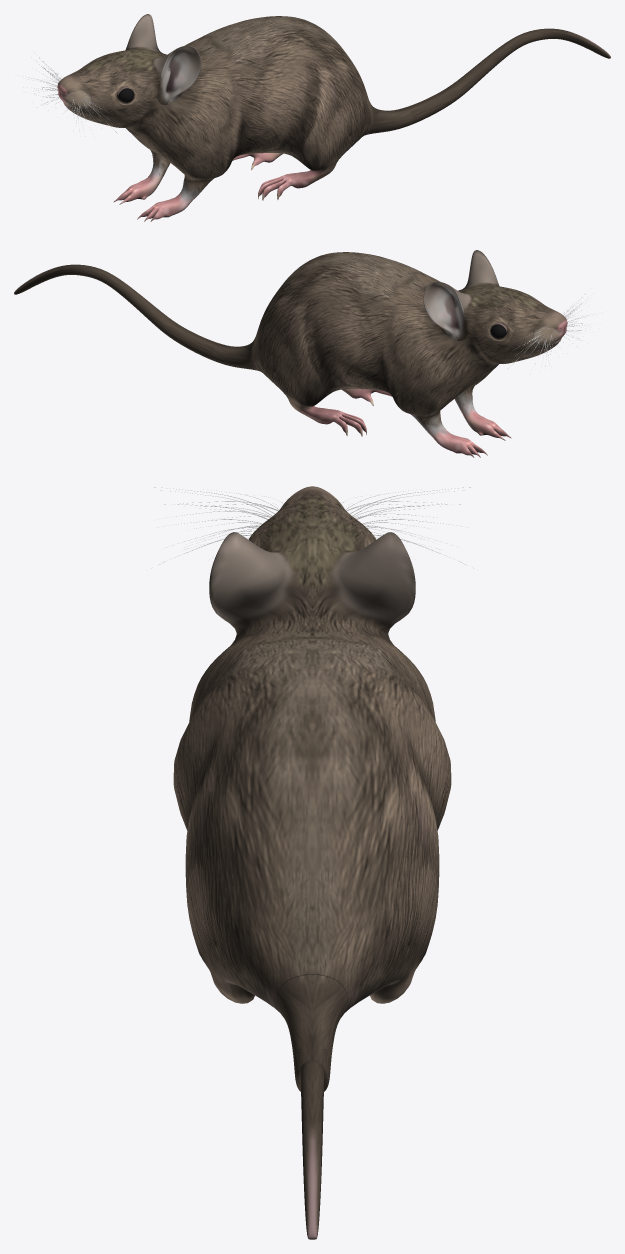
The model's file is mouse_candidate_house_1k.glb.
The picture shows the model from 3 angles, top to bottom: view 1: azimuth 30°, elevation 25°; view 2: azimuth 150°, elevation 25°; view 3: azimuth 270°, elevation 25°; orthographic projection. The views are drawn at different scales.
Visible parts, largest first — view 1: House_Mouse _0, moustache_1; view 2: House_Mouse _0, moustache_1; view 3: House_Mouse _0, moustache_1.
Part boxes in pixels (left/top/right/bottom): House_Mouse _0: left=57, top=14, right=610, bottom=221; moustache_1: left=29, top=52, right=116, bottom=132; House_Mouse _0: left=14, top=250, right=567, bottom=457; moustache_1: left=508, top=288, right=595, bottom=368; House_Mouse _0: left=173, top=486, right=451, bottom=1239; moustache_1: left=151, top=487, right=473, bottom=568.
Size of the model in its own units: 4.79 by 1.41 by 1.22.
3 materials, 1 textured.
